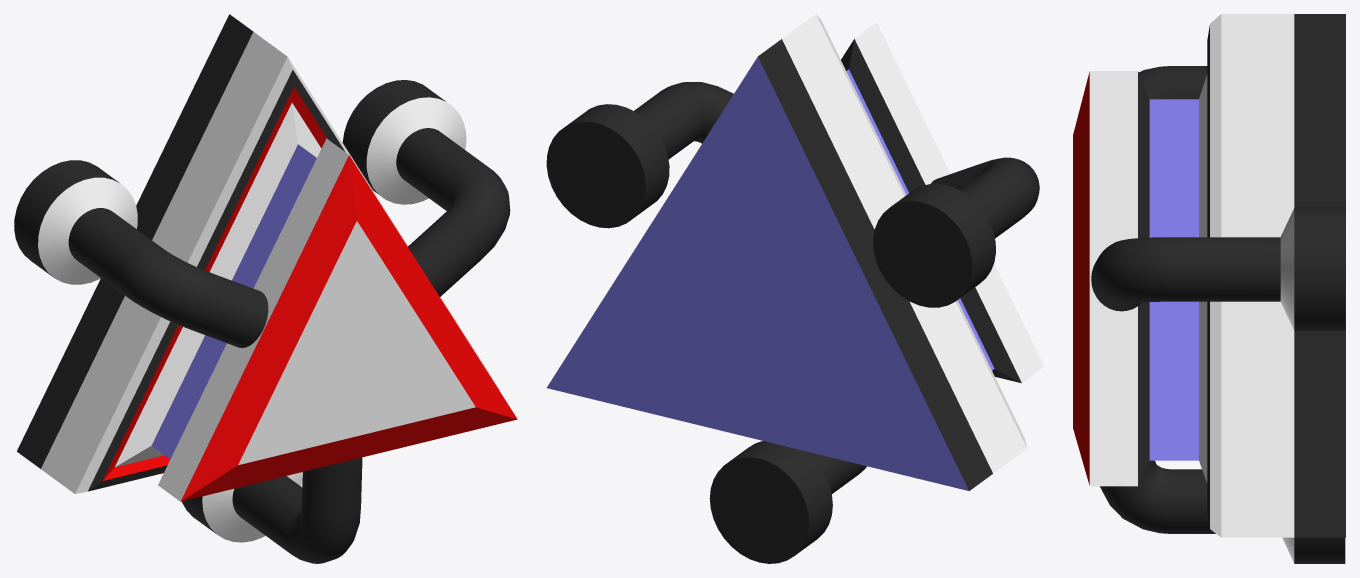
File: crystallineCompoundFactory.obj
3 renders of one model, left to right at view 1: azimuth 30°, elevation 25°; view 2: azimuth 150°, elevation 25°; view 3: azimuth 270°, elevation 25°, orthographic. The views are drawn at different scales.
Visible parts, largest first — view 1: Cylinder.004_Cylinder.003, Cylinder.003_Cylinder.001, Cylinder.002_Cylinder.001, Cylinder.001; view 2: Cylinder.004_Cylinder.003, Cylinder.003_Cylinder.001, Cylinder.002_Cylinder.001, Cylinder.001; view 3: Cylinder.004_Cylinder.003, Cylinder.002_Cylinder.001, Cylinder.001, Cylinder.003_Cylinder.001.
Boxes of the visible parts, bbox=[...] form: Cylinder.004_Cylinder.003: bbox=[17, 14, 517, 501]; Cylinder.003_Cylinder.001: bbox=[14, 160, 268, 347]; Cylinder.002_Cylinder.001: bbox=[342, 80, 510, 296]; Cylinder.001: bbox=[182, 457, 362, 563]; Cylinder.004_Cylinder.003: bbox=[546, 14, 1044, 490]; Cylinder.003_Cylinder.001: bbox=[873, 157, 1039, 307]; Cylinder.002_Cylinder.001: bbox=[546, 82, 733, 228]; Cylinder.001: bbox=[709, 441, 866, 563]; Cylinder.004_Cylinder.003: bbox=[1073, 14, 1345, 537]; Cylinder.002_Cylinder.001: bbox=[1091, 207, 1345, 330]; Cylinder.001: bbox=[1100, 460, 1345, 563]; Cylinder.003_Cylinder.001: bbox=[1138, 66, 1207, 99].
Bounding box in the file's own units: 1.89 × 2.15 × 0.9754.
